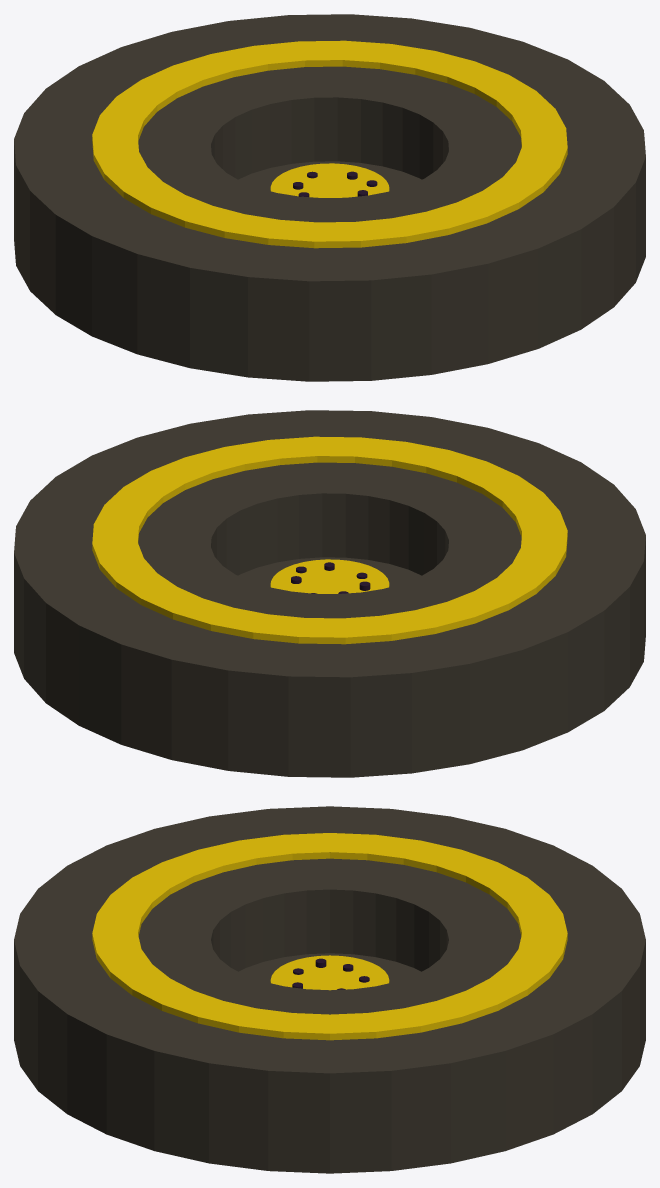
The model's file is goodyear.glb.
3 renders of one model, top to bottom at view 1: azimuth 30°, elevation 25°; view 2: azimuth 150°, elevation 25°; view 3: azimuth 270°, elevation 25°, orthographic.
Visible parts, largest first — view 1: Tire, RacingStripes, HubCap; view 2: Tire, RacingStripes, HubCap; view 3: Tire, RacingStripes, HubCap.
Part boxes in pixels (x1=…): Tire: x1=14, y1=14, x2=645, y2=381; RacingStripes: x1=92, y1=40, x2=567, y2=248; HubCap: x1=270, y1=163, x2=389, y2=197; Tire: x1=14, y1=410, x2=645, y2=777; RacingStripes: x1=92, y1=436, x2=567, y2=644; HubCap: x1=270, y1=559, x2=389, y2=593; Tire: x1=14, y1=806, x2=645, y2=1173; RacingStripes: x1=92, y1=833, x2=567, y2=1040; HubCap: x1=270, y1=955, x2=389, y2=990.
Size of the model in its own units: 0.8 by 0.1491 by 0.8.
